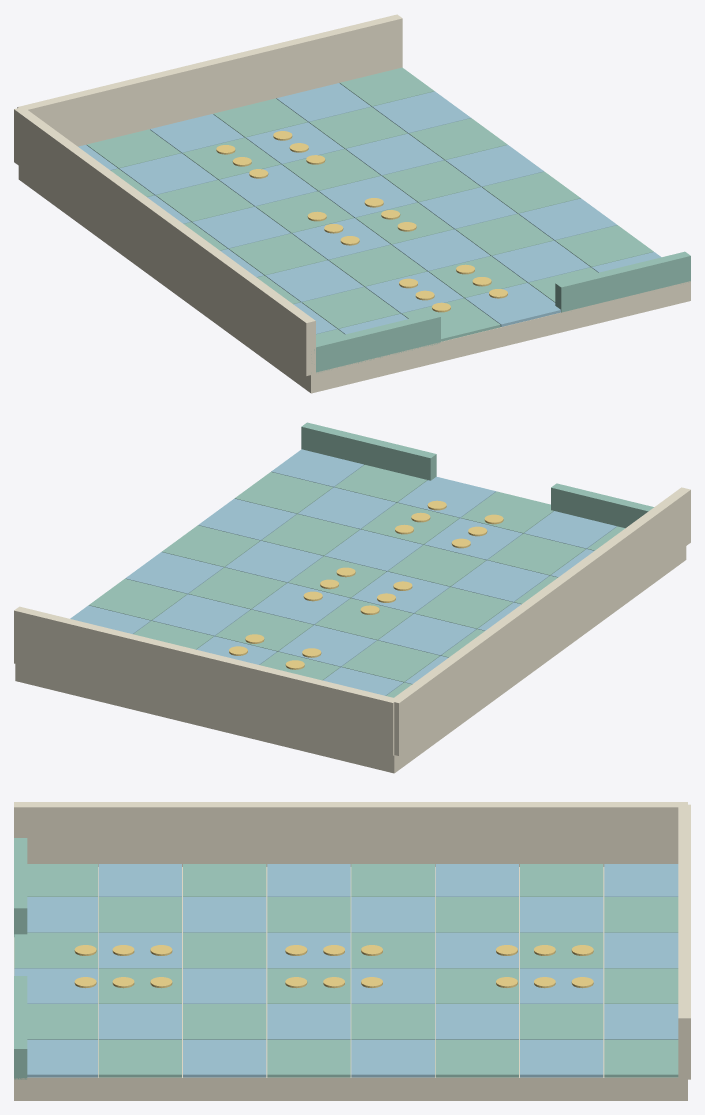
File: play-annex.glb
The picture shows the model from 3 angles, top to bottom: view 1: azimuth 30°, elevation 25°; view 2: azimuth 150°, elevation 25°; view 3: azimuth 270°, elevation 25°; orthographic projection. The views are drawn at different scales.
Parts seen in each view (by area): view 1: garden entrance border, back wall, room tile.002, queue spot; view 2: back wall, garden entrance border, room tile.002, queue spot; view 3: garden entrance border, room tile.002, back wall, queue spot.
Boxes of the visible parts, x1,y1,x2,y2 form: garden entrance border: (87, 67, 690, 372); back wall: (14, 14, 690, 393); room tile.002: (78, 83, 661, 334); queue spot: (216, 131, 507, 312); back wall: (14, 487, 690, 773); garden entrance border: (89, 422, 653, 697); room tile.002: (70, 449, 616, 695); queue spot: (229, 500, 503, 669); garden entrance border: (14, 838, 678, 1079); room tile.002: (14, 864, 678, 1077); back wall: (14, 802, 690, 1100); queue spot: (74, 945, 593, 988).
Size of the model in its own units: 6.07 by 1.08 by 8.04.
